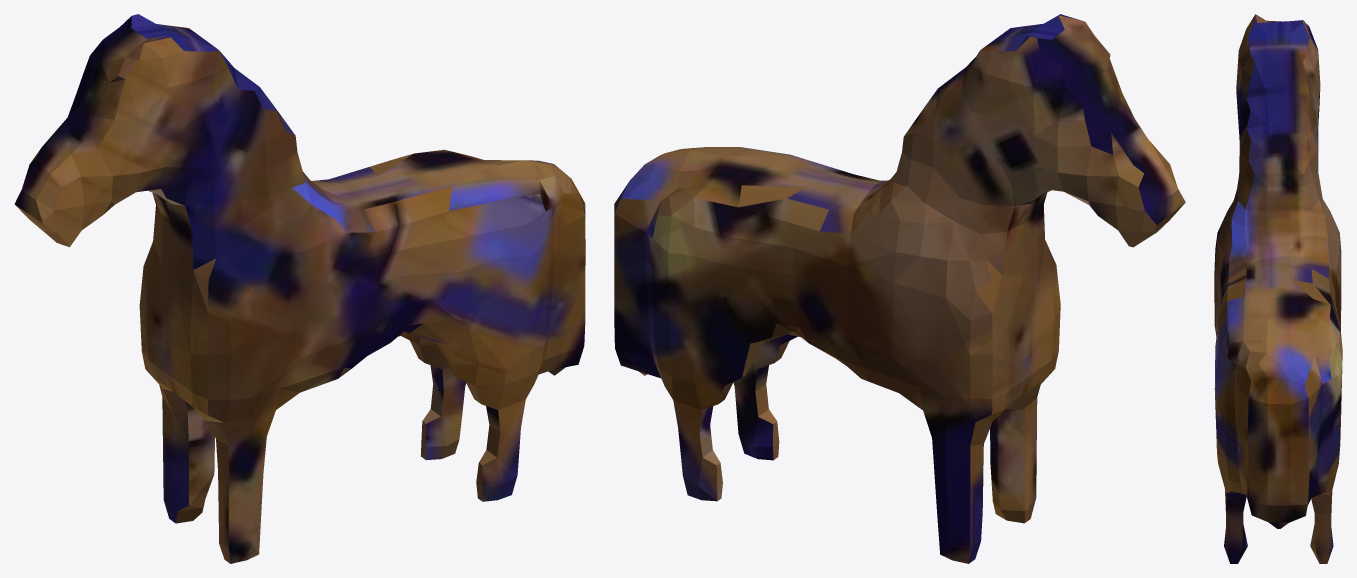
File: horse.glb
3 views of the same model, side by side, from view 1: azimuth 30°, elevation 25°; view 2: azimuth 150°, elevation 25°; view 3: azimuth 270°, elevation 25° (orthographic). The views are drawn at different scales.
Parts seen in each view (by area): view 1: material.001; view 2: material.001; view 3: material.001.
Part boxes in pixels (box(x1,y1,x2,y2)): material.001: box(14, 14, 585, 563); material.001: box(614, 14, 1185, 563); material.001: box(1214, 14, 1342, 563).
Bounding box in the file's own units: 1.03 × 0.9404 × 0.263.
Materials: 1 (1 with a texture image).
